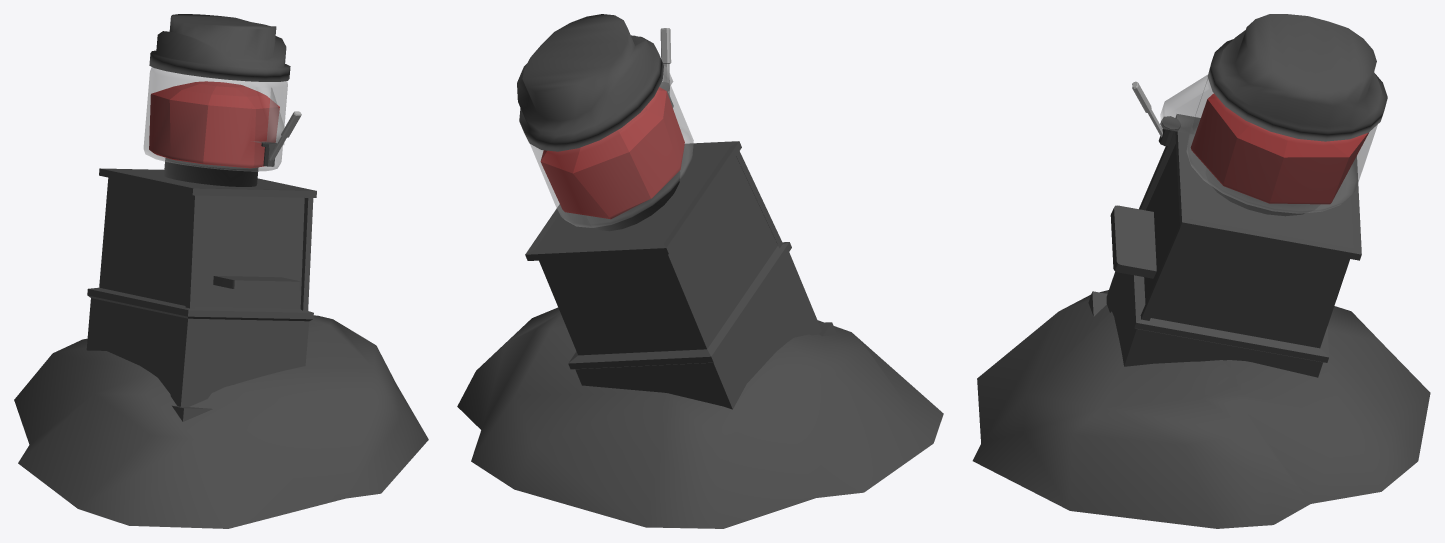
Rendered from SlushMachine_InGround.fbx.
3 renders of one model, left to right at view 1: azimuth 30°, elevation 25°; view 2: azimuth 150°, elevation 25°; view 3: azimuth 270°, elevation 25°, orthographic. The views are drawn at different scales.
Visible parts, largest first — view 1: SlushMach_InGround; view 2: SlushMach_InGround; view 3: SlushMach_InGround.
Boxes of the visible parts, box(x1,y1,x2,y2) form: SlushMach_InGround: box(14, 14, 428, 528); SlushMach_InGround: box(457, 14, 943, 528); SlushMach_InGround: box(972, 14, 1430, 528).
Bounding box in the file's own units: 2.88 × 3.07 × 2.78.
